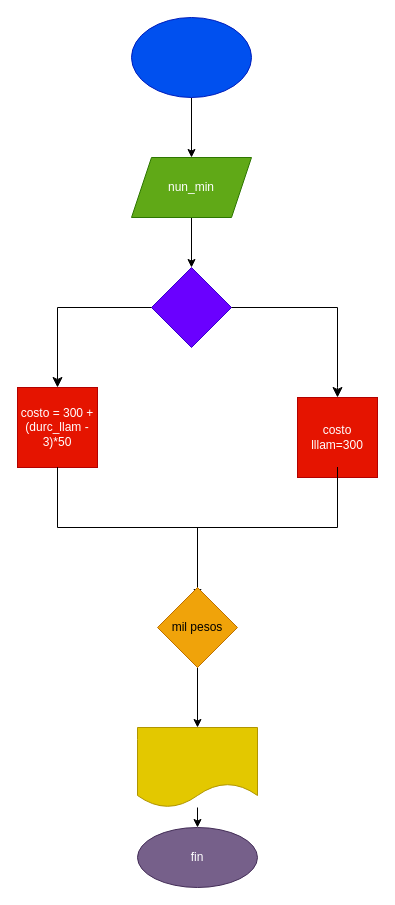
Some shapes in this 395 by 905 pixel diagram are drawn without their labels. Here are the shapes that lost their labels. From the top down, the centre of each, then its label:
At point 191,57: "inicio".
At point 191,307: "num_min<=3".
At point 197,767: "costo de la llamada".
